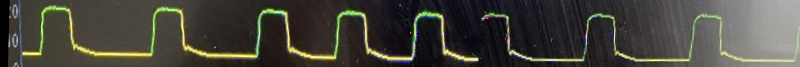normal_pressure: (20, 1, 800, 67)
